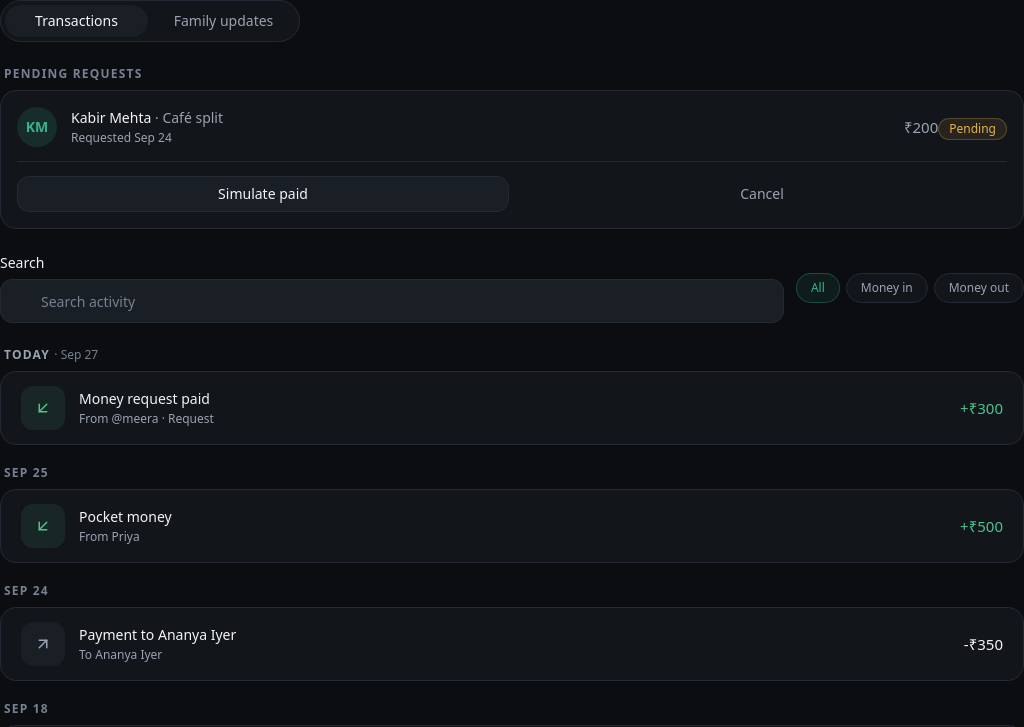
Test: Activity, Home and Money › Activity: a paid request reads 'Money request paid' for the requester; detail shows the party and request
What coordinates should you click on to do the following:
click the text "Money request paid"
I would click on:
 (144, 398)
Its box is [79, 389, 210, 408].
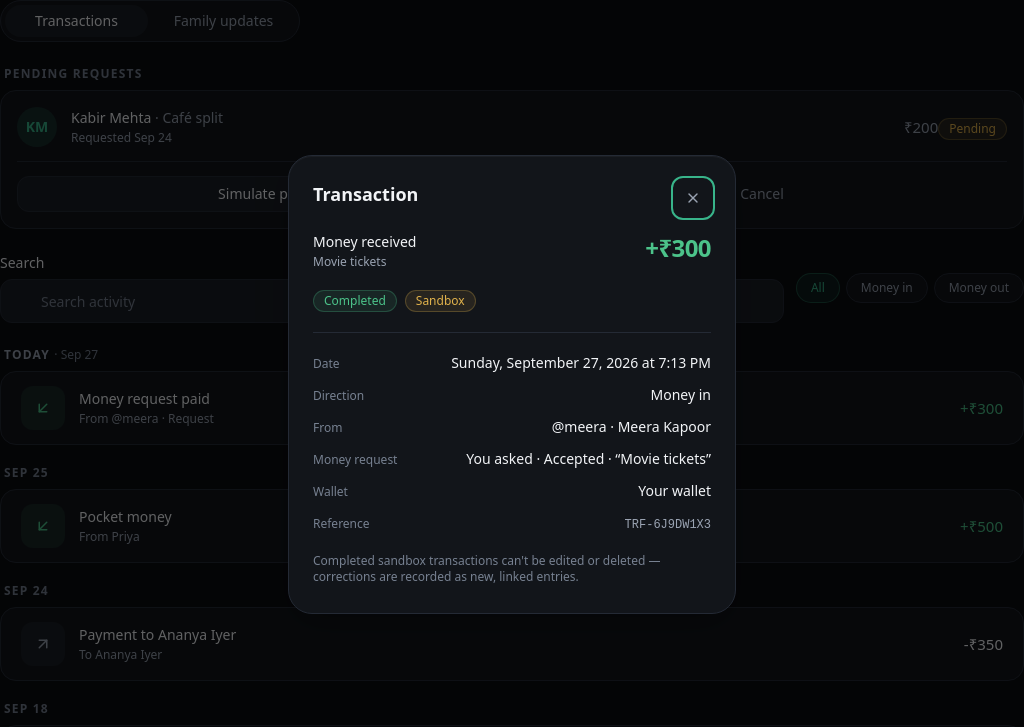
Expected: the text "@meera · Meera Kapoor" is shown, [552, 416, 711, 436]
Expected: the text "You asked · Accepted · “Movie tickets”" is shown, [466, 448, 711, 468]
